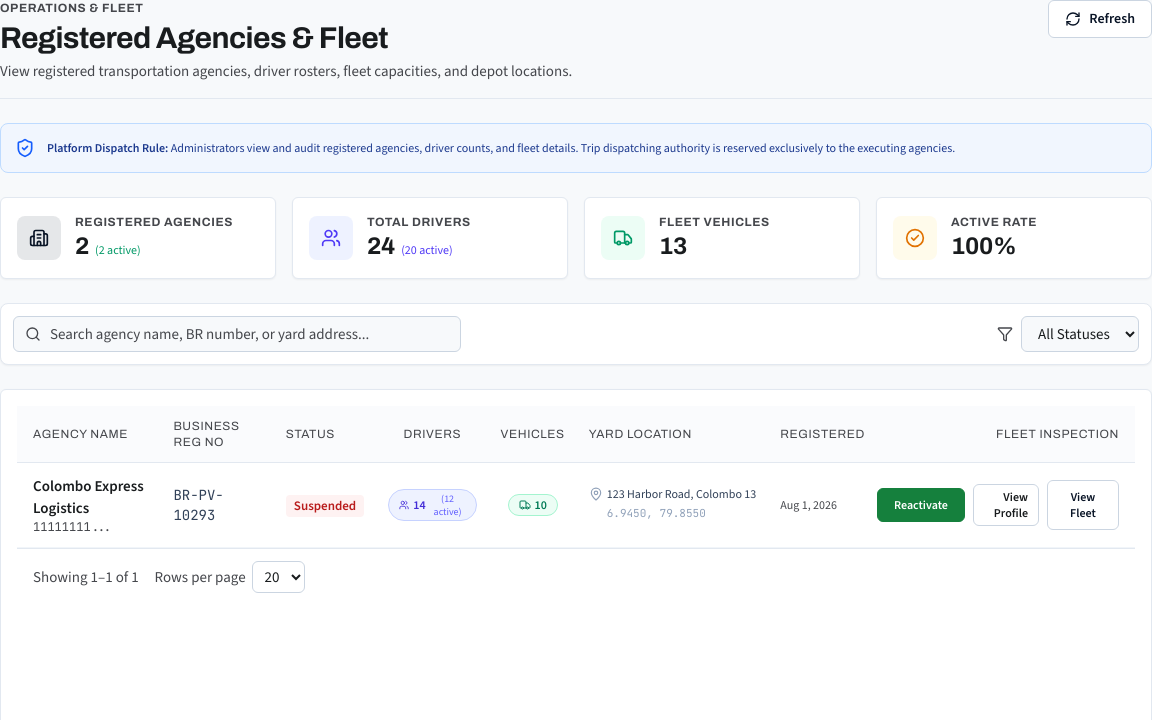
Test case: AgenciesPage — Admin status changes (issue #56) › requires a reason, then reactivates the agency to Active
Click the button "Reactivate".
click(921, 505)  # box top-left (877, 488), bottom-right (965, 522)
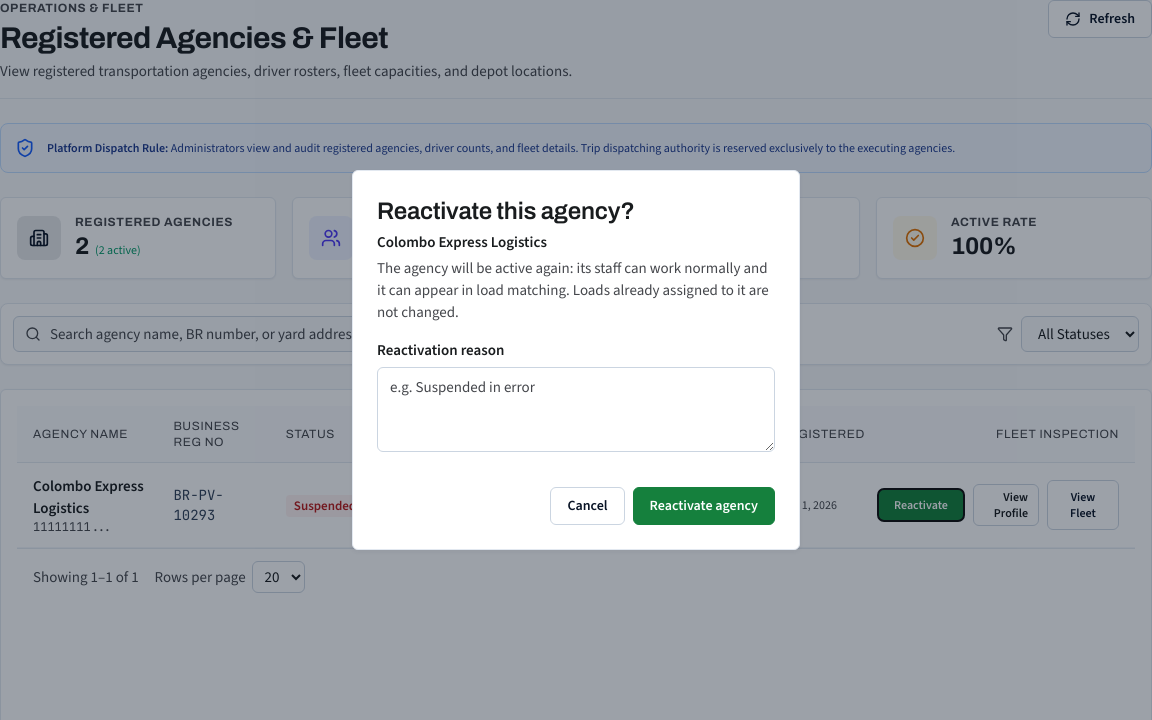
Now the dialog shows "Reactivate this agency?", box top-left (377, 198), bottom-right (635, 224)
Click the button "Reactivate agency".
click(704, 506)  # box top-left (633, 487), bottom-right (775, 525)
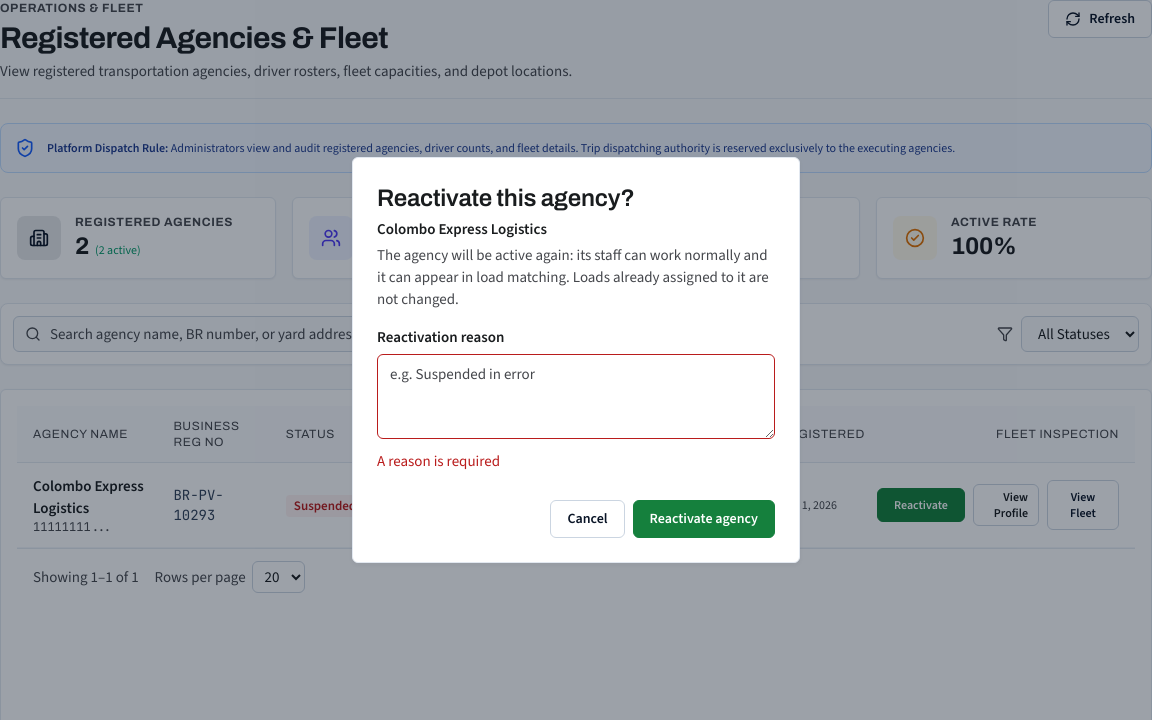
Now the text "A reason is required" is shown, box top-left (377, 451), bottom-right (500, 471)
Type "Suspended in error" into the text box labelled "Reactivation reason".
click(576, 397); type("Suspended in error")  # box top-left (377, 354), bottom-right (775, 439)
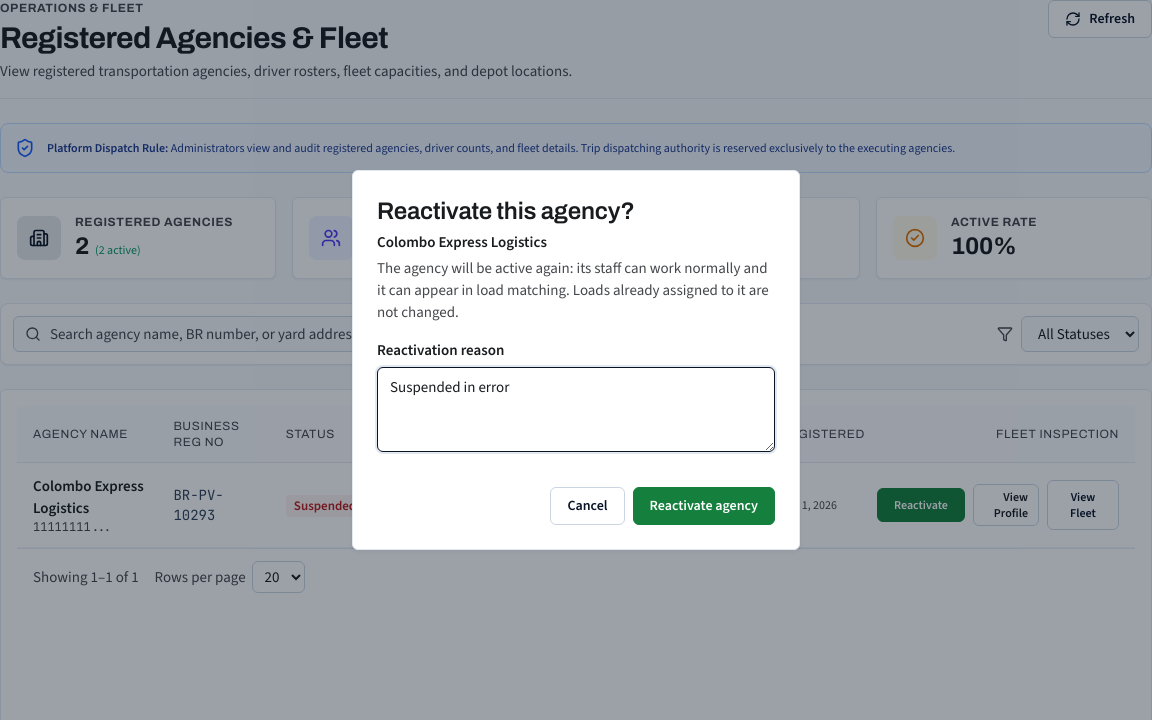
Click the button "Reactivate agency".
click(704, 506)  # box top-left (633, 487), bottom-right (775, 525)
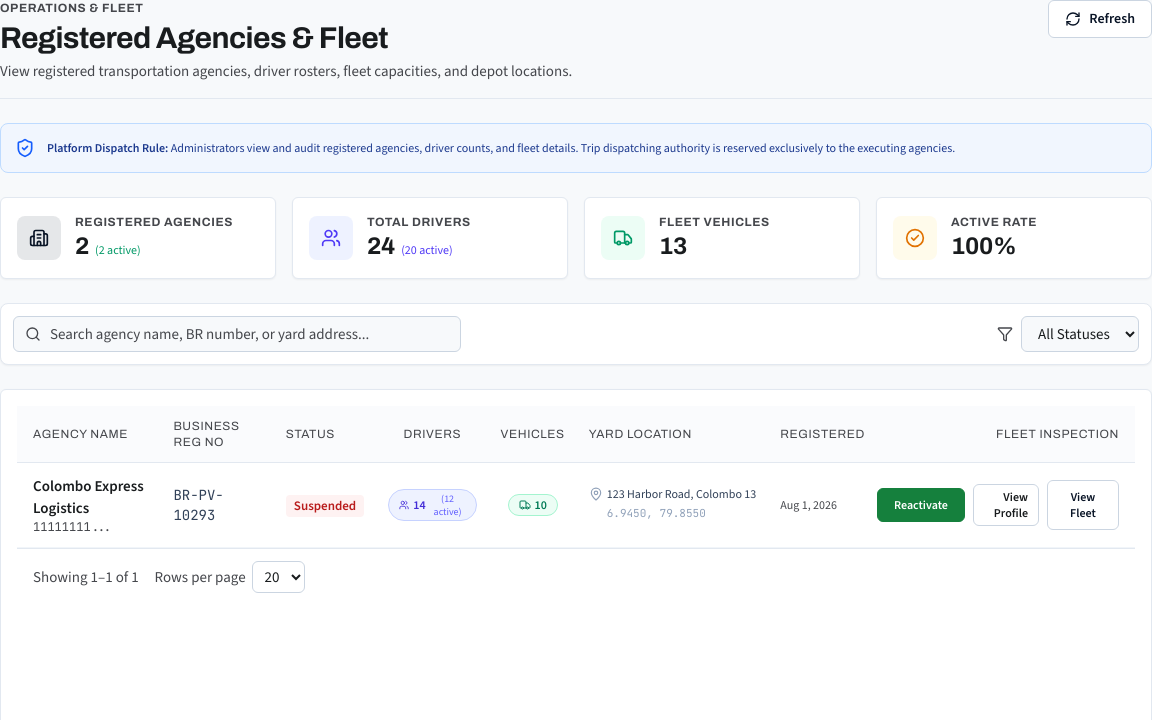
Now the dialog is gone
